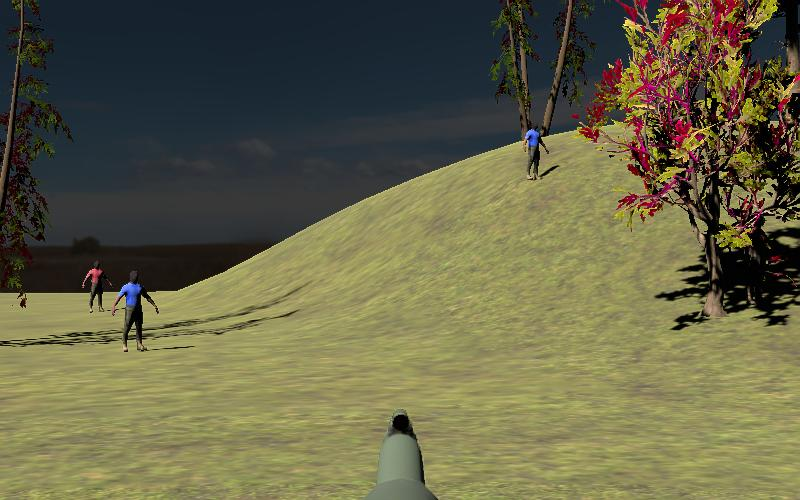Human: (111, 270, 158, 352), (82, 259, 112, 314), (523, 119, 548, 181)
